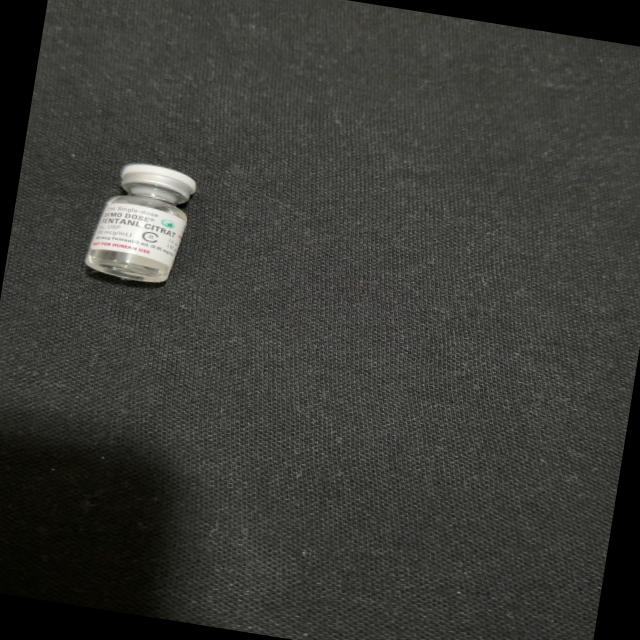fentanl_citrat: (84, 158, 196, 288)
